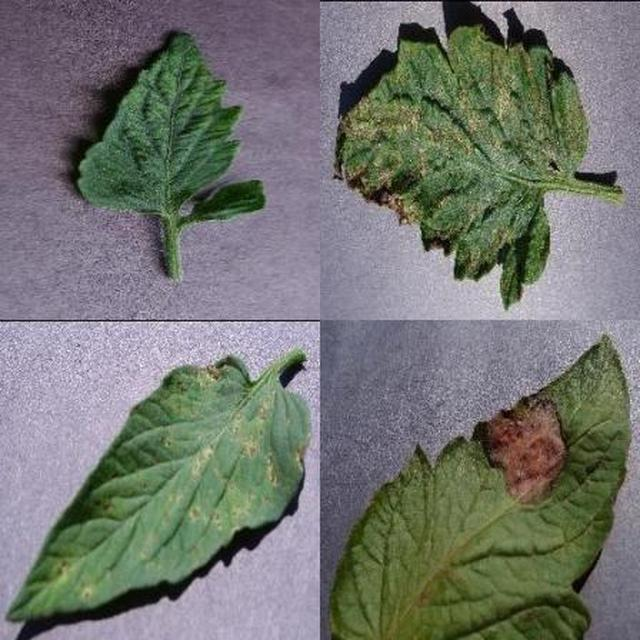Mosaic Virus Leaf: (227, 181, 640, 640)
